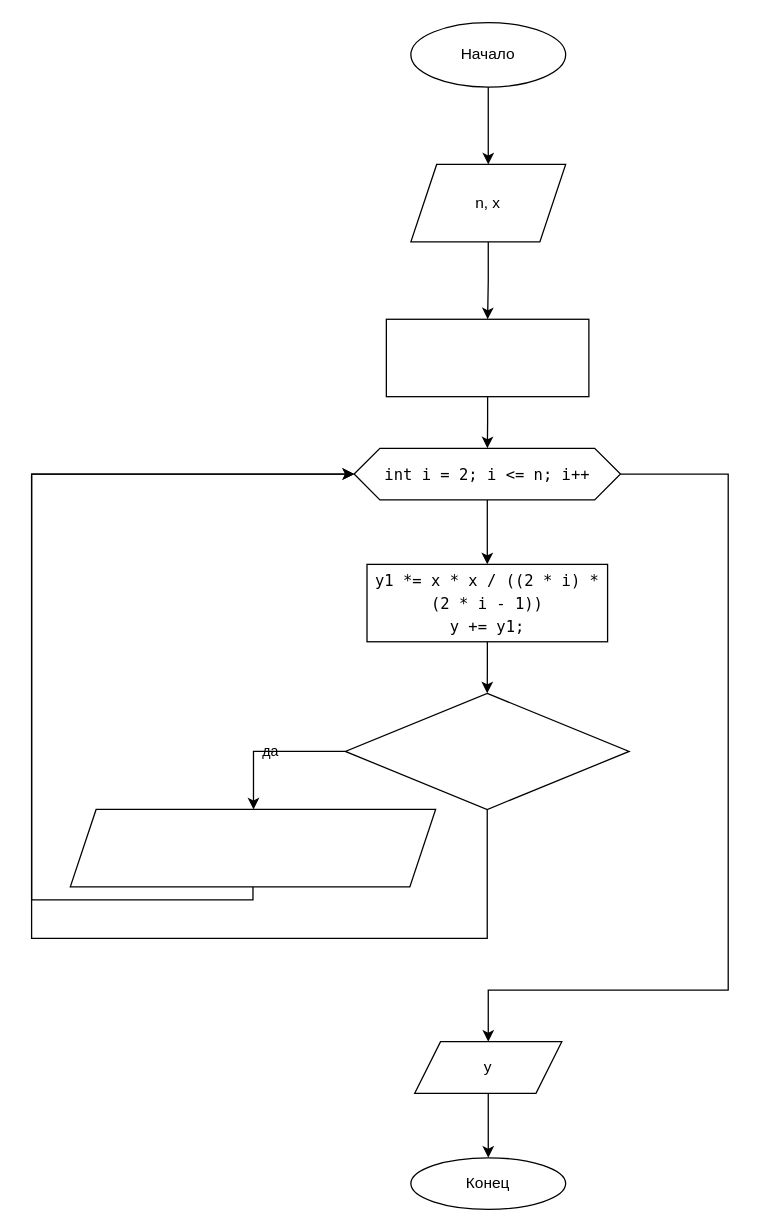
Some shapes in this 761 by 1232 pixel diagram are drawn without their labels. The shapes that lost their labels are listed below. From the top down, each one's centre as x and y in pixels, then its label:
At [487,357]: "y = 1.0 + x * x / 2 y1 = x * x / 2".
At [486,750]: "( i == 3 || i == 5 || i == 10 )".
At [252,847]: "Частичная сумма при {i} слагаемых = {y}".
